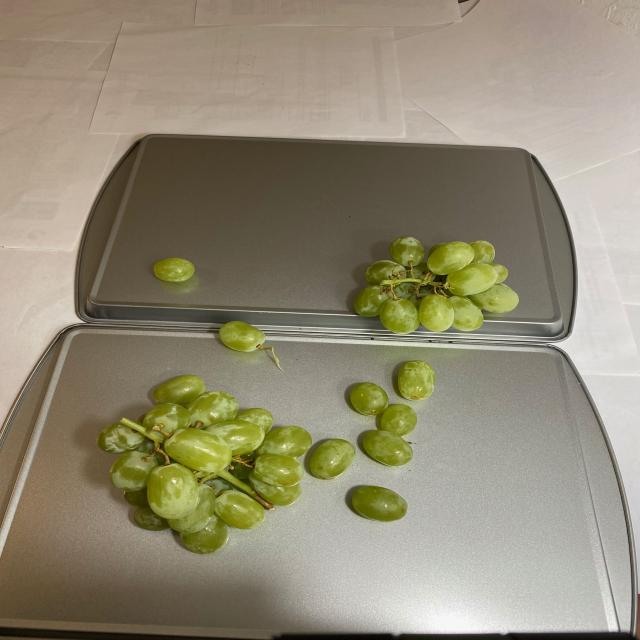grapes: (95, 361, 434, 554), (348, 234, 522, 334), (206, 320, 278, 354), (149, 257, 201, 283)
